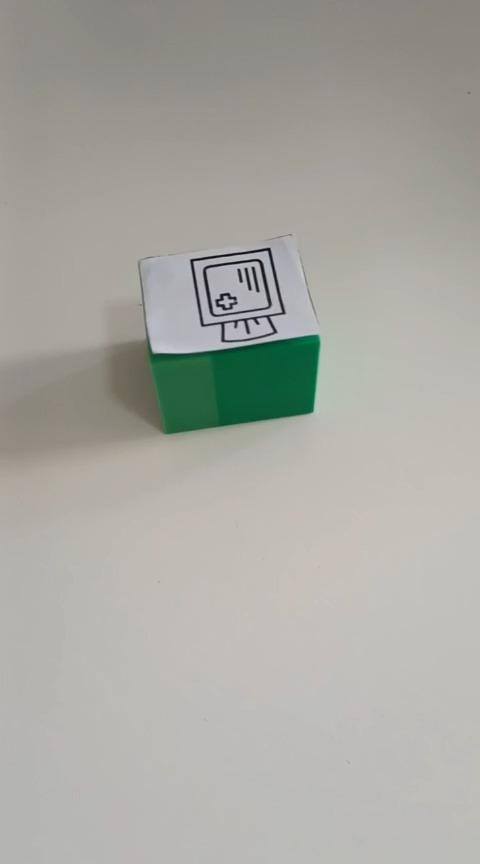Gauze: (136, 231, 321, 434)
